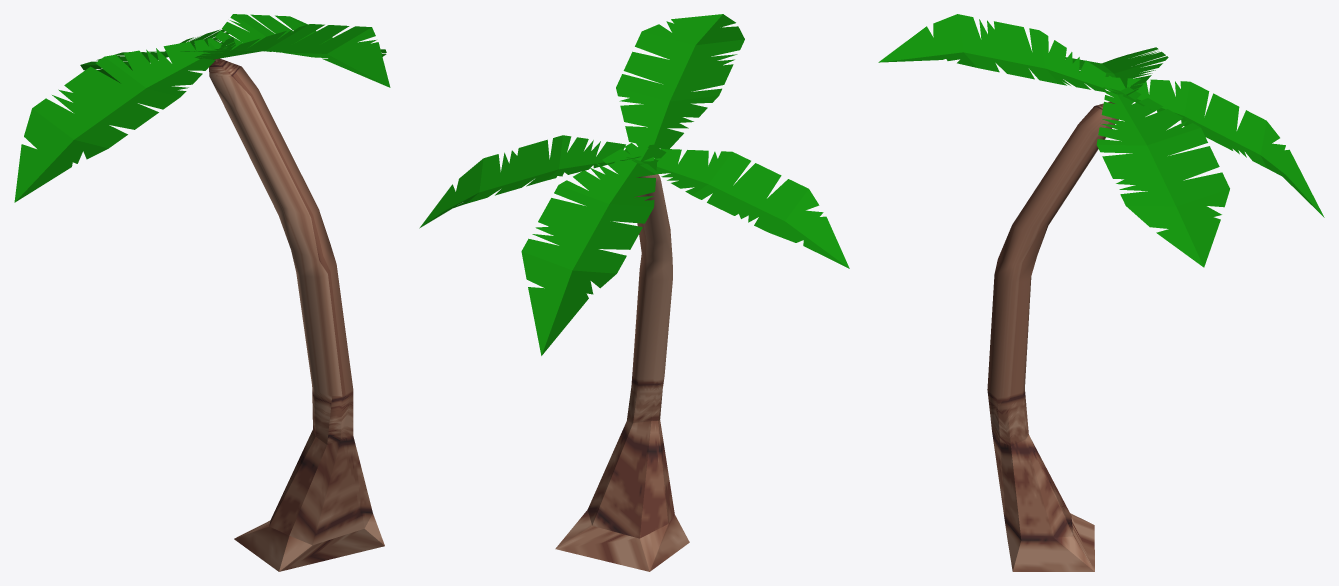
Rendered from PalmTree1.glb.
3 views of the same model, side by side, from view 1: azimuth 30°, elevation 25°; view 2: azimuth 150°, elevation 25°; view 3: azimuth 270°, elevation 25° (orthographic). The views are drawn at different scales.
Parts seen in each view (by area): view 1: Plane.003; view 2: Plane.003; view 3: Plane.003.
Part boxes in pixels (bbox=[...]): Plane.003: bbox=[14, 14, 390, 571]; Plane.003: bbox=[419, 14, 849, 571]; Plane.003: bbox=[878, 14, 1324, 571].
Bounding box in the file's own units: 4 × 5 × 4.07.
Materials: 2 (1 with a texture image).
